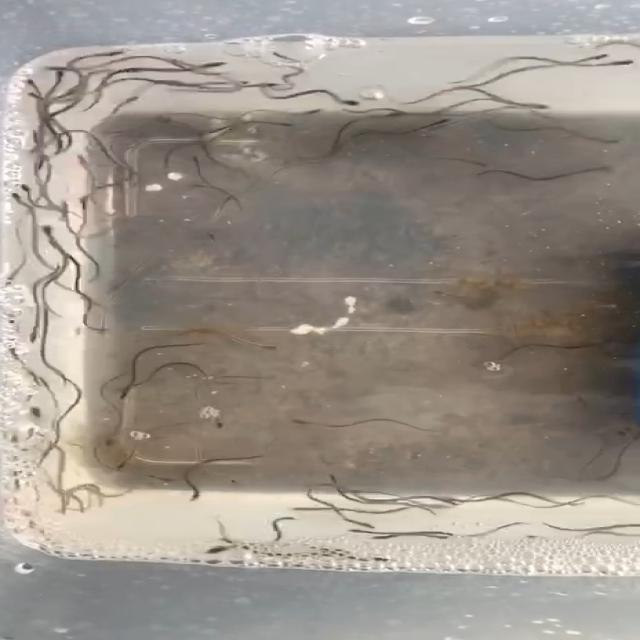inactive_glass_eel: (338, 88, 377, 111), (517, 97, 561, 116), (270, 102, 325, 116), (354, 530, 402, 546), (62, 154, 105, 171), (191, 542, 243, 556), (193, 58, 231, 77), (518, 96, 544, 123), (4, 177, 39, 197), (603, 55, 639, 74), (72, 190, 106, 210), (50, 498, 100, 511), (339, 516, 388, 529), (265, 513, 310, 527), (246, 77, 291, 91), (280, 411, 316, 428), (46, 198, 80, 216), (594, 130, 624, 150), (157, 112, 190, 130), (206, 413, 237, 432), (88, 432, 123, 448), (346, 524, 386, 538), (422, 113, 458, 128), (183, 148, 213, 166), (112, 384, 140, 403), (48, 68, 76, 87), (35, 215, 58, 238), (97, 46, 145, 57), (172, 178, 208, 192), (30, 58, 66, 72), (119, 90, 143, 111), (326, 465, 351, 484), (272, 116, 304, 130), (152, 156, 188, 168), (279, 506, 321, 516), (110, 458, 136, 474), (576, 162, 607, 175), (488, 344, 513, 360), (3, 311, 22, 332), (182, 490, 208, 505), (18, 88, 46, 101), (271, 46, 294, 61), (24, 335, 47, 349), (587, 52, 617, 62), (25, 404, 49, 416), (7, 190, 27, 204), (18, 75, 38, 88)
